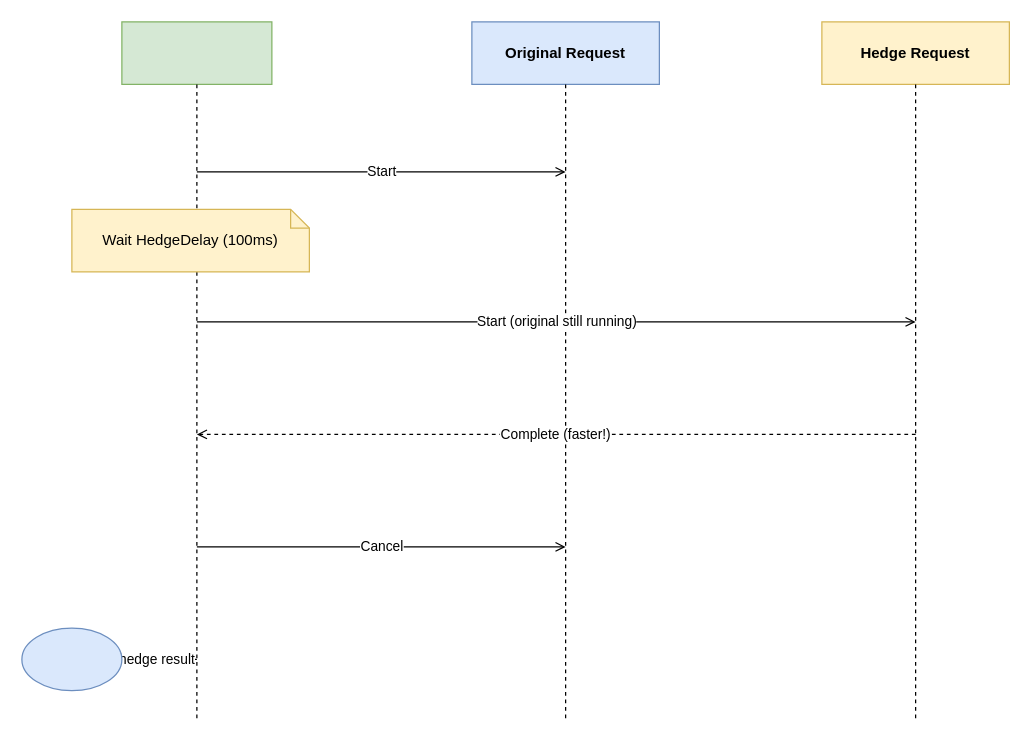
Some shapes in this 1031 by 745 pixel diagram are drawn without their labels. The shapes that lost their labels are listed below. From the top down, each one's box as (x1, y1, x2, y2) in pixels, then its label:
(121, 21, 272, 84): Policy
(21, 627, 122, 691): Caller
